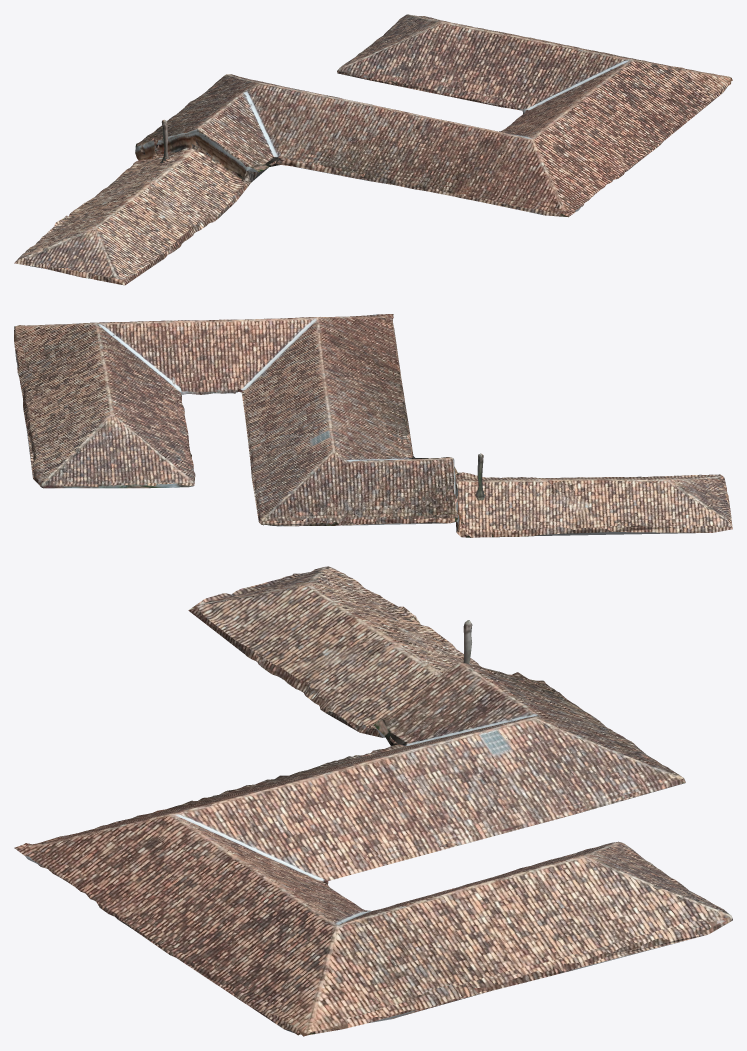
File: TelhadoEixos.FBX
The picture shows the model from 3 angles, top to bottom: view 1: azimuth 30°, elevation 25°; view 2: azimuth 150°, elevation 25°; view 3: azimuth 270°, elevation 25°; orthographic projection. The views are drawn at different scales.
Visible parts, largest first — view 1: Model; view 2: Model; view 3: Model.
Part boxes in pixels (box(x1,y1,x2,y2)): Model: box(14, 14, 732, 285); Model: box(14, 314, 732, 537); Model: box(14, 566, 732, 1036).
Bounding box in the file's own units: 2340 × 201 × 1443.
